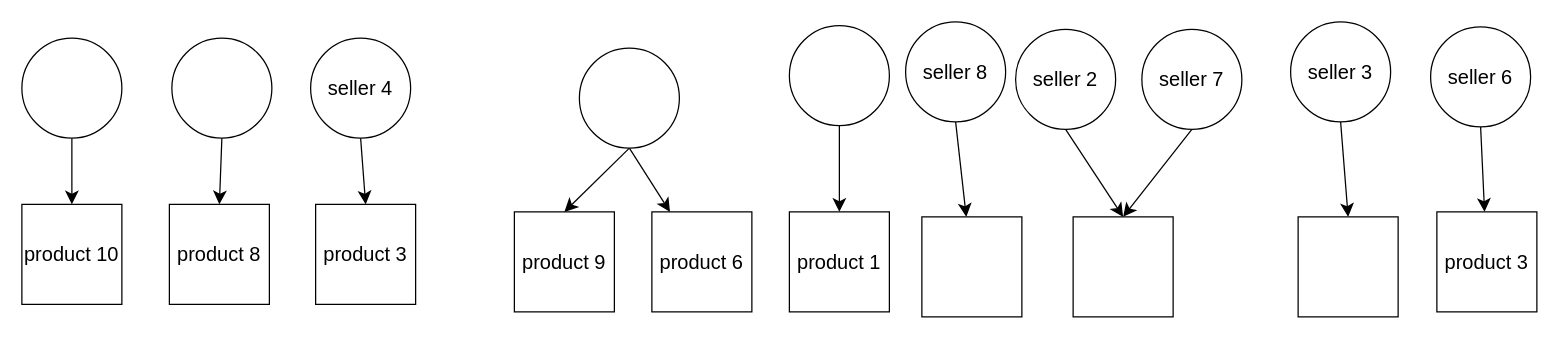
The diagram is 1559 pixels wide and 339 high, and some of its shapes have lost their labels. Each missing label, with the centre of its shape:
"product 2" goes at (x=1122, y=266).
"product 5" goes at (x=1347, y=266).
"product 7" goes at (x=971, y=266).
"seller 1" goes at (x=628, y=97).
"seller 10" goes at (x=71, y=87).
"seller 5" goes at (x=838, y=75).
"seller 9" goes at (x=221, y=87).
